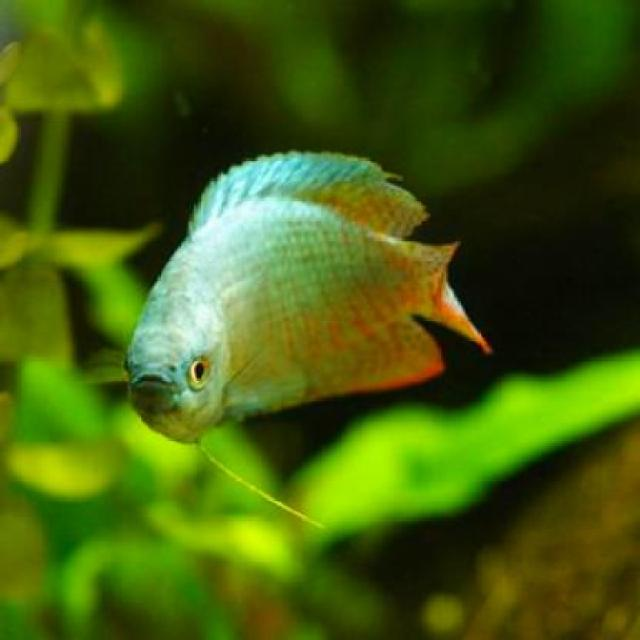Gourami: (125, 150, 481, 441)
